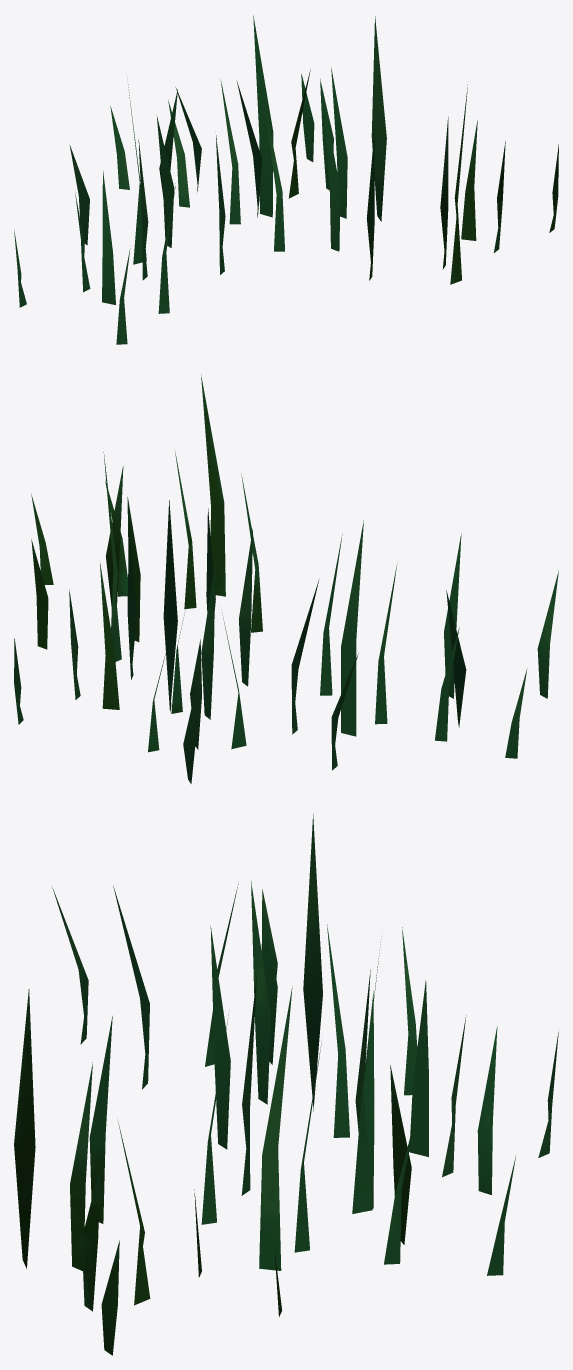
The model's file is SM_Tree_And_Bushes.fbx_SM_Bush_15.fbx.
3 views of the same model, one above another, from view 1: azimuth 30°, elevation 25°; view 2: azimuth 150°, elevation 25°; view 3: azimuth 270°, elevation 25° (orthographic). The views are drawn at different scales.
Visible parts, largest first — view 1: SM_Tree_25; view 2: SM_Tree_25; view 3: SM_Tree_25.
Boxes of the visible parts, <box> form: SM_Tree_25: <box>14,15,558,344</box>; SM_Tree_25: <box>14,374,558,783</box>; SM_Tree_25: <box>14,814,558,1355</box>.
Size of the model in its own units: 777 by 296 by 508.
